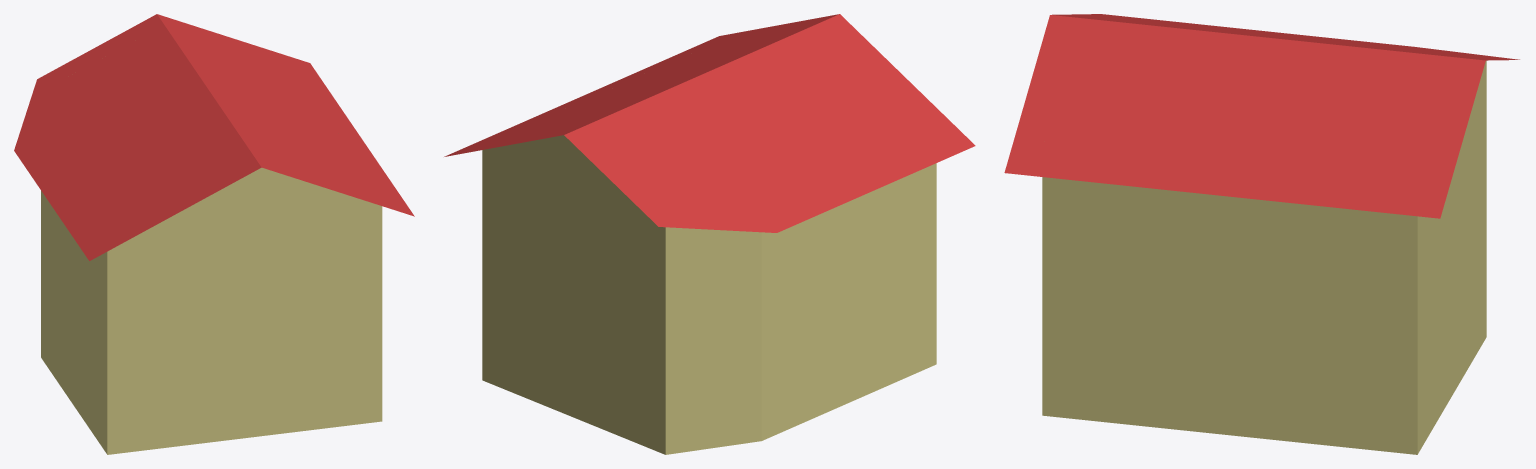
3 views of the same model, side by side, from view 1: azimuth 30°, elevation 25°; view 2: azimuth 150°, elevation 25°; view 3: azimuth 270°, elevation 25° (orthographic). The views are drawn at different scales.
Size of the model in its own units: 15.97 by 16.56 by 11.76.
